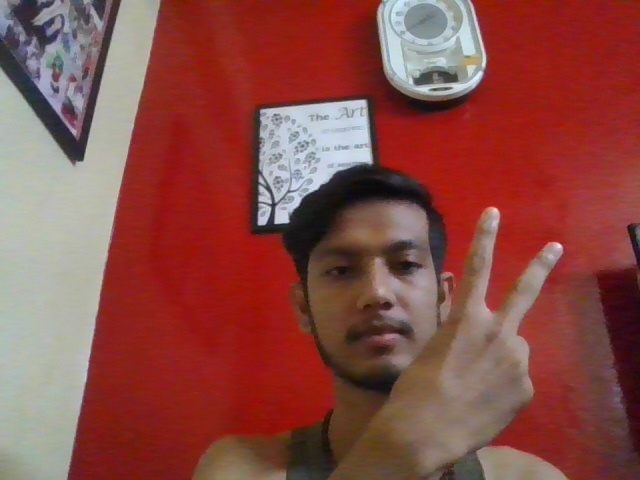LiveLong: (453, 206, 565, 446)
